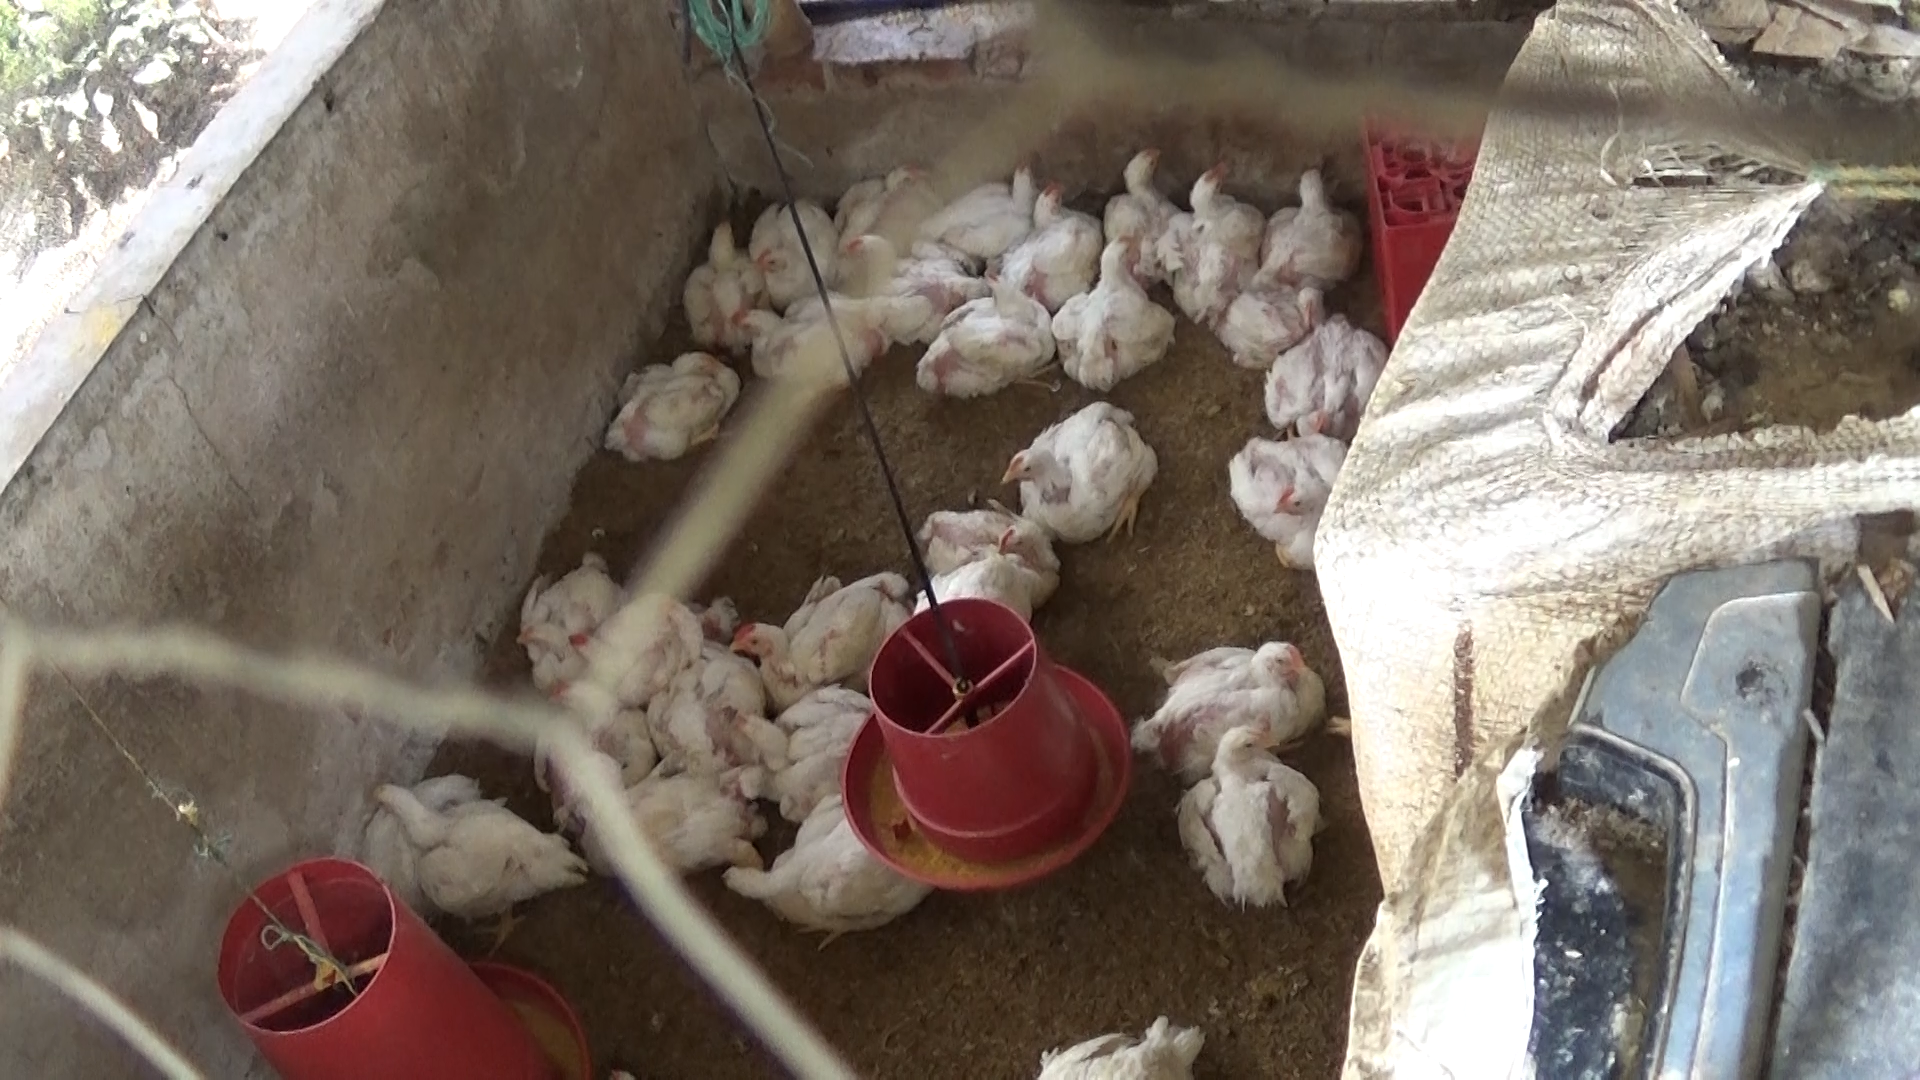Pollos: (1160, 719, 1345, 902), (372, 771, 580, 932), (556, 728, 760, 891), (716, 787, 934, 938), (1126, 632, 1332, 762), (997, 401, 1168, 551), (723, 576, 891, 713), (351, 744, 476, 907), (649, 595, 761, 771), (909, 276, 1064, 401), (738, 682, 881, 818), (1058, 233, 1182, 386), (1249, 314, 1393, 444), (506, 533, 625, 690), (1164, 156, 1273, 322), (597, 348, 746, 468), (1221, 427, 1349, 567), (915, 502, 1058, 615), (994, 178, 1106, 305), (1098, 135, 1192, 281), (836, 233, 972, 332), (920, 156, 1040, 260), (682, 208, 767, 353), (1266, 160, 1364, 285), (1205, 270, 1328, 368), (833, 157, 955, 255), (731, 297, 861, 386), (745, 196, 841, 314)
